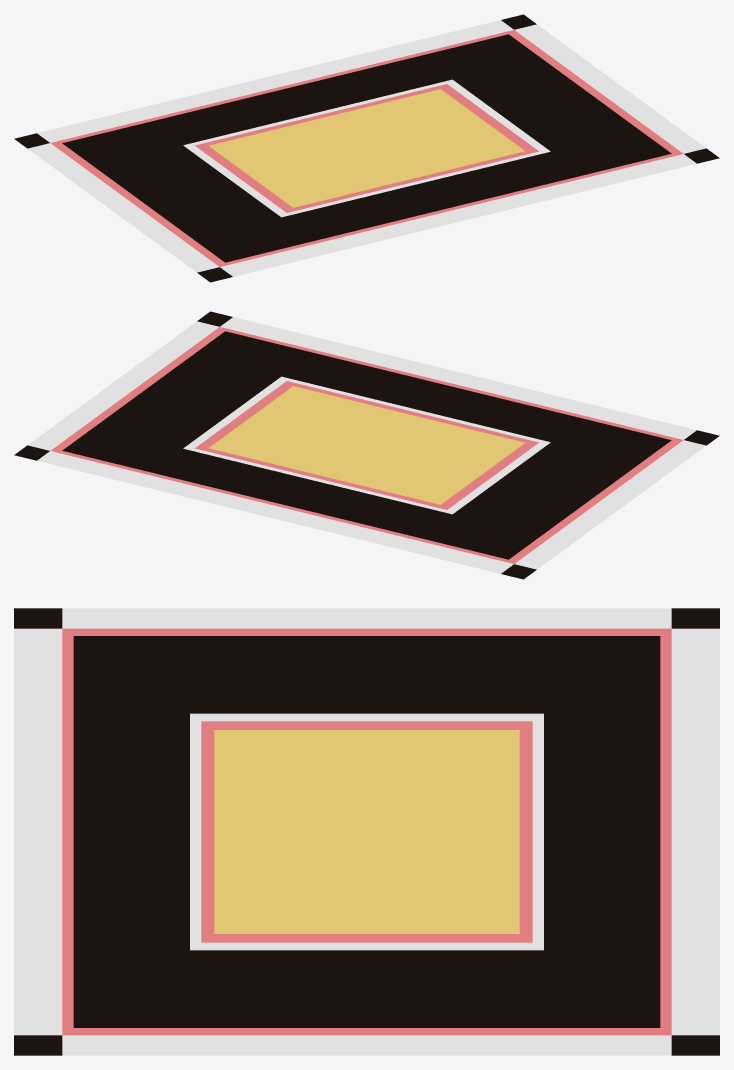
The model's file is Capet1-2.fbx.
The picture shows the model from 3 angles, top to bottom: view 1: azimuth 30°, elevation 25°; view 2: azimuth 150°, elevation 25°; view 3: azimuth 270°, elevation 25°; orthographic projection. The views are drawn at different scales.
Parts seen in each view (by area): view 1: Capet1-2; view 2: Capet1-2; view 3: Capet1-2.
Boxes of the visible parts, x1=… form: Capet1-2: x1=14, y1=14, x2=719, y2=282; Capet1-2: x1=14, y1=311, x2=719, y2=579; Capet1-2: x1=14, y1=608, x2=719, y2=1055.
Bounding box in the file's own units: 0.9569 × 3.91e-17 × 0.6387.
